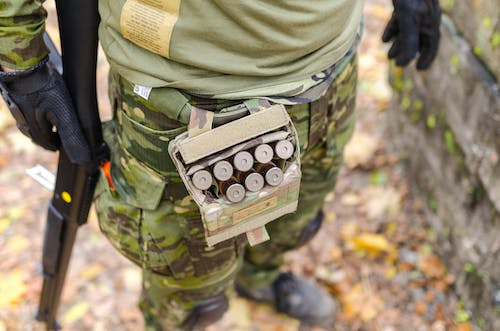gun: (32, 0, 112, 331)
